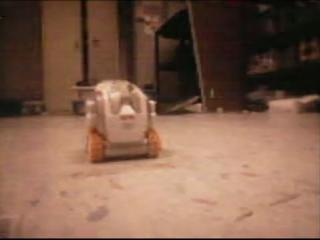cozmo: (84, 78, 162, 162)
